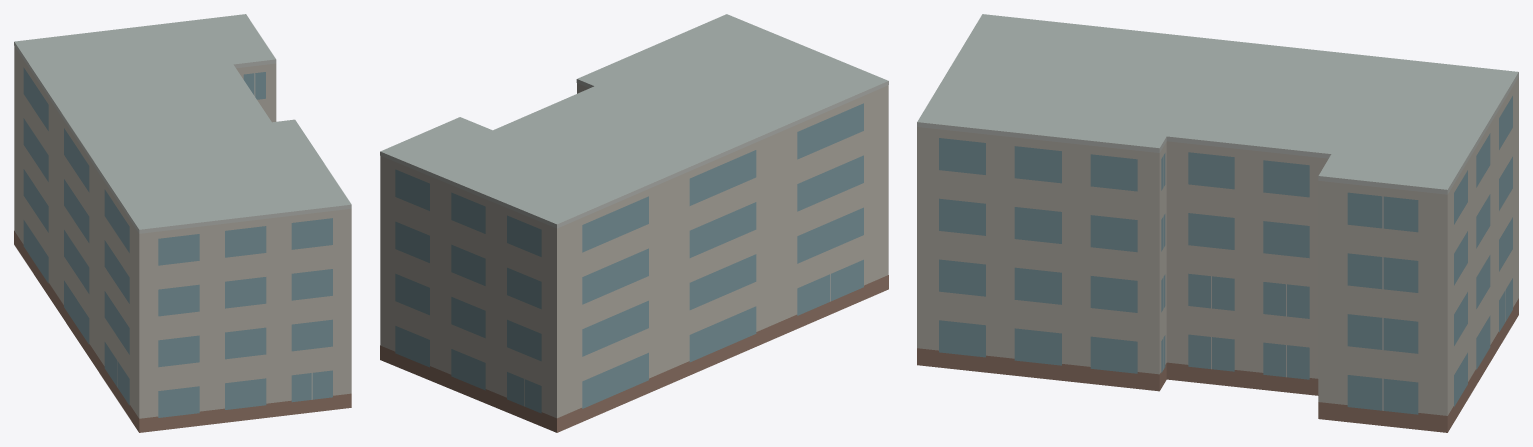
Rendered from residential-ee47b88a-3e59-4cae-ab26-1bff8ddbbd9a.glb.
3 renders of one model, left to right at view 1: azimuth 30°, elevation 25°; view 2: azimuth 150°, elevation 25°; view 3: azimuth 270°, elevation 25°, orthographic. The views are drawn at different scales.
Visible parts, largest first — view 1: residential-ee47b88a-3e59-4cae-ab26-1bff8ddbbd9a.tmp; view 2: residential-ee47b88a-3e59-4cae-ab26-1bff8ddbbd9a.tmp; view 3: residential-ee47b88a-3e59-4cae-ab26-1bff8ddbbd9a.tmp.
Part boxes in pixels (left/top/right/bottom): residential-ee47b88a-3e59-4cae-ab26-1bff8ddbbd9a.tmp: left=14, top=14, right=351, bottom=432; residential-ee47b88a-3e59-4cae-ab26-1bff8ddbbd9a.tmp: left=380, top=14, right=888, bottom=432; residential-ee47b88a-3e59-4cae-ab26-1bff8ddbbd9a.tmp: left=917, top=14, right=1518, bottom=432.
Size of the model in its own units: 18.94 by 12.2 by 27.39.
